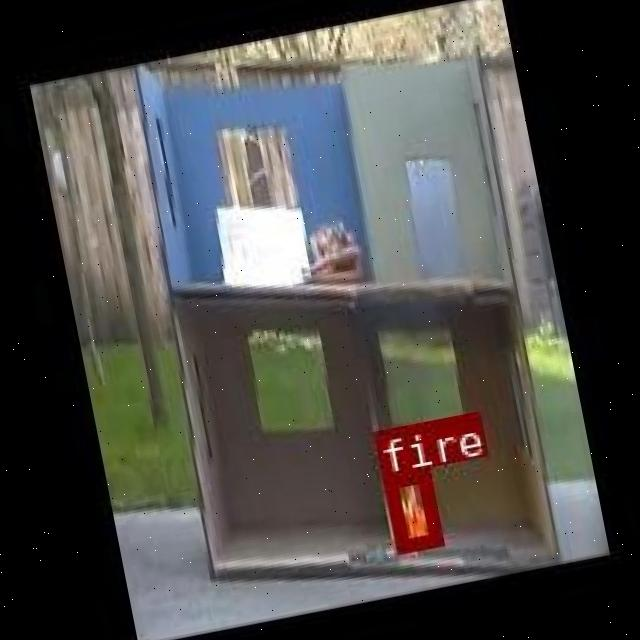fire: (381, 467, 441, 552)
